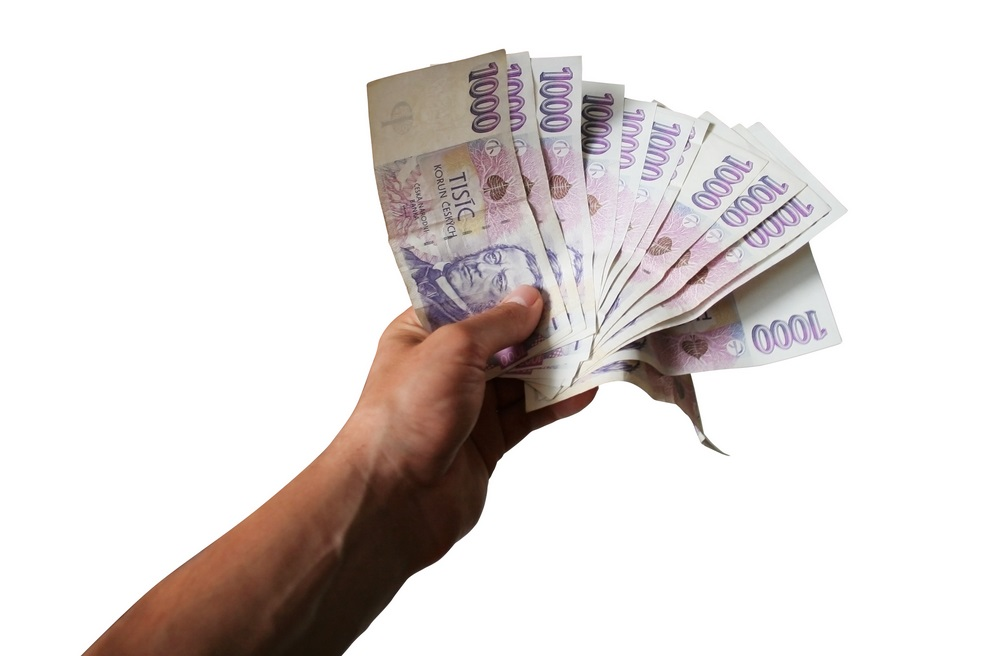billete: (363, 45, 854, 463)
